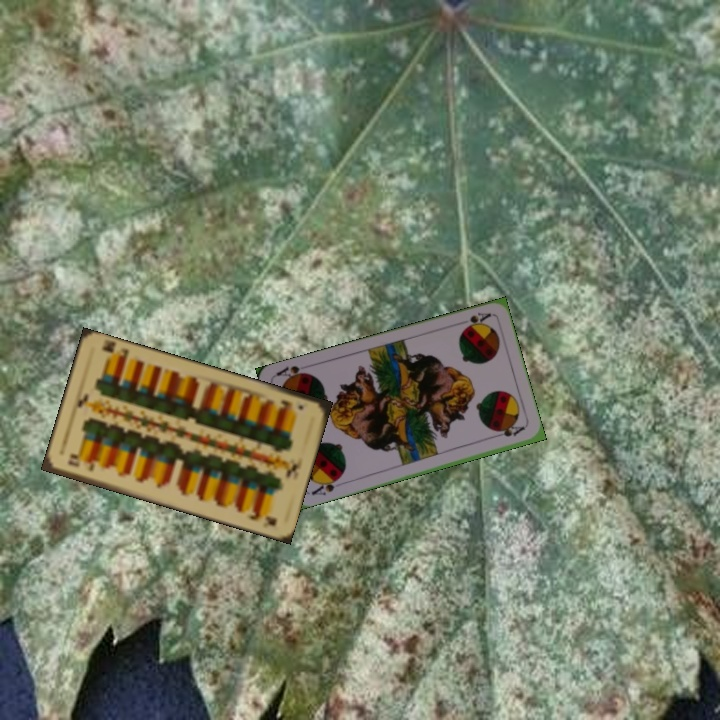E10: (64, 453, 97, 474), (275, 396, 306, 412)
SA: (454, 308, 494, 333), (307, 473, 344, 498)
